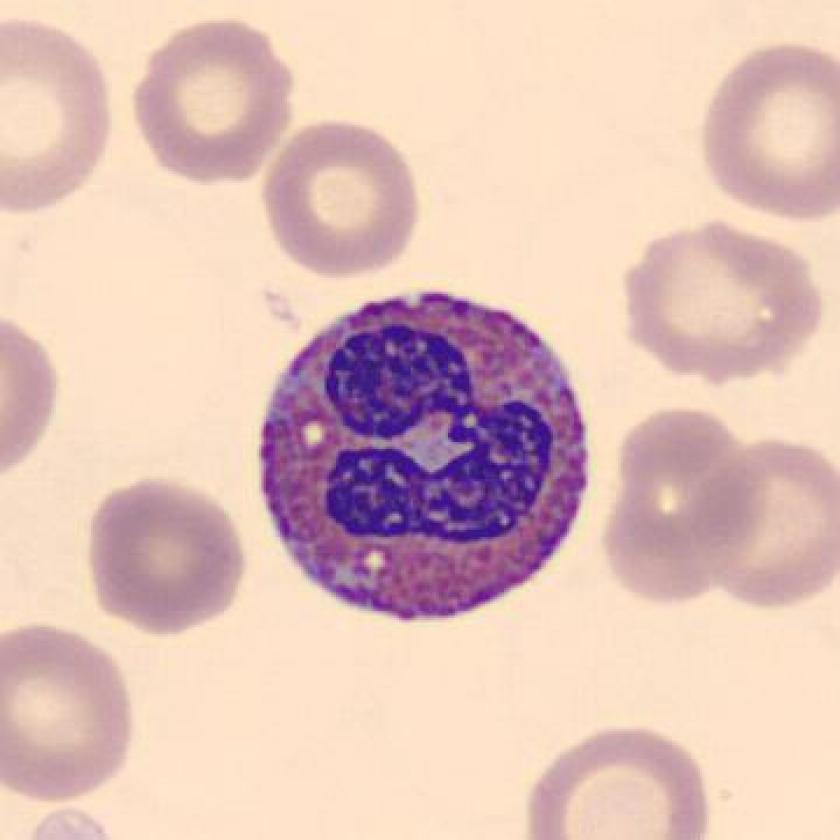eosinophil: (246, 276, 605, 635)
